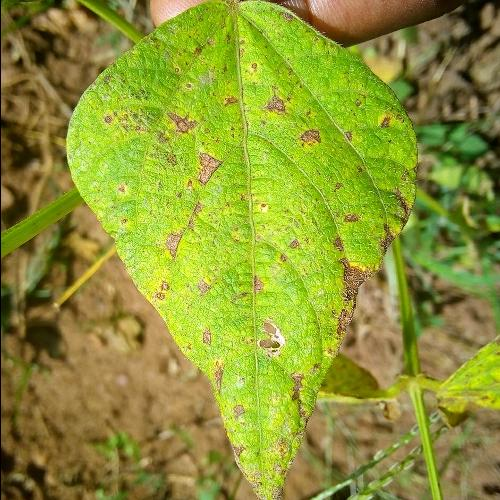mozaik: (106, 67, 382, 490)
